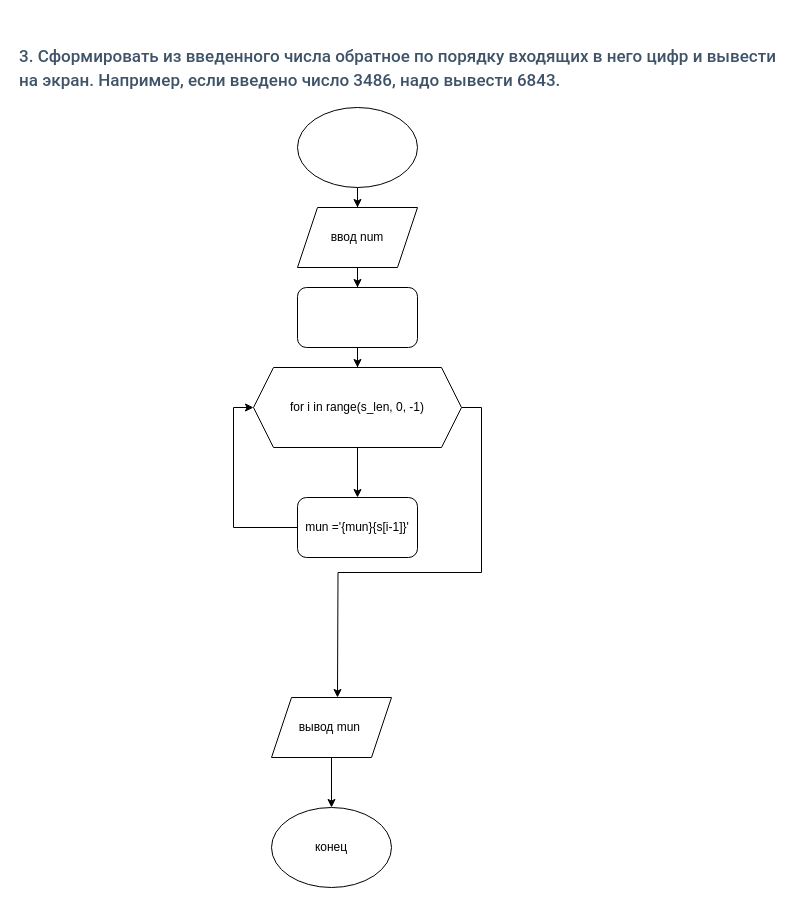
This 804x905 diagram has some shape labels left out. The centre of each missing label's shape, as x and y in pixels:
s = str(num) s_len = len(s) mun ='': the point at 357,317
начало: the point at 357,147
